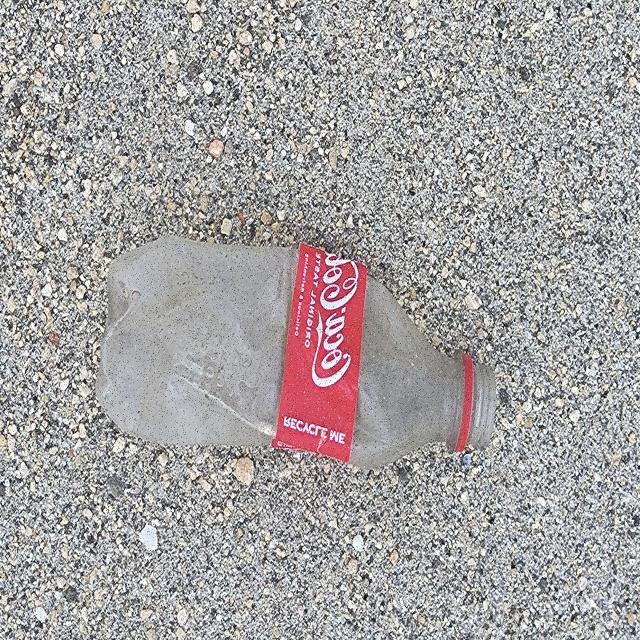plastic_waste: (98, 234, 496, 463)
